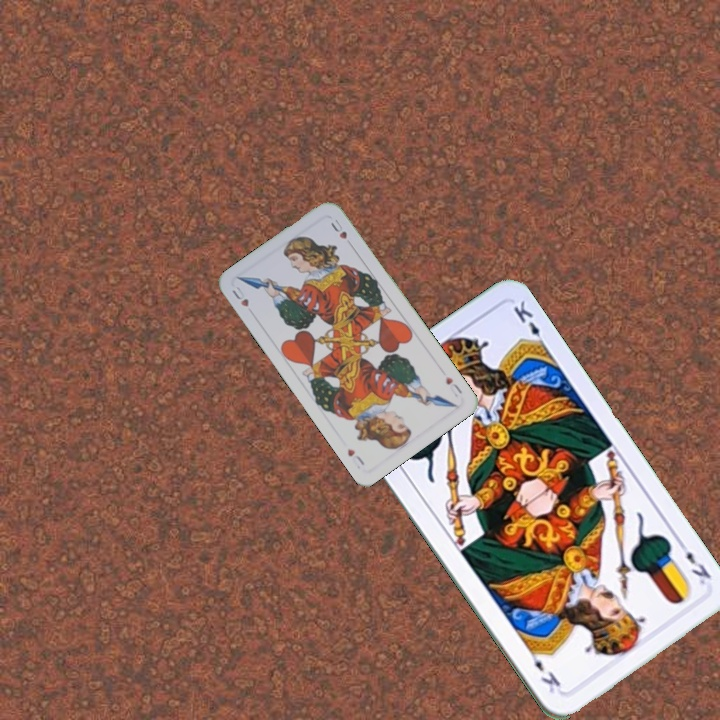EK: (674, 537, 714, 587)
HU: (228, 282, 251, 310), (441, 372, 465, 396)
